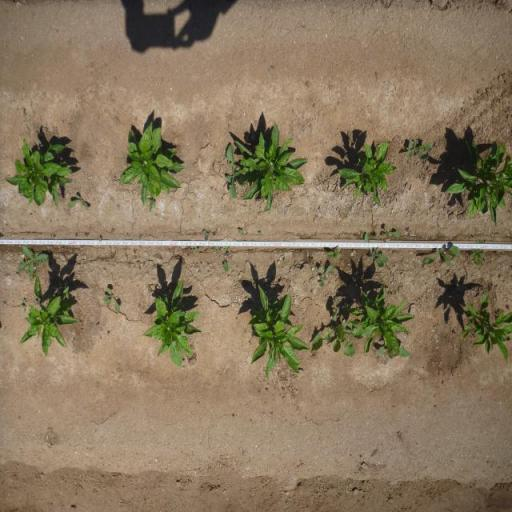plant: (442, 136, 512, 228), (243, 119, 310, 215), (248, 284, 310, 380), (143, 275, 202, 369), (4, 134, 72, 208), (119, 120, 185, 196), (24, 274, 80, 358), (336, 139, 398, 207), (457, 292, 512, 364), (364, 278, 416, 348), (145, 196, 157, 214)
weed: (311, 310, 364, 358), (222, 143, 244, 200), (16, 244, 49, 278), (364, 232, 389, 269), (421, 246, 461, 266), (406, 138, 434, 160), (212, 246, 234, 272), (470, 238, 490, 266), (103, 288, 120, 313), (68, 193, 90, 211), (318, 264, 334, 288), (384, 226, 401, 238), (326, 248, 342, 260), (20, 298, 27, 314), (374, 235, 387, 243), (493, 309, 500, 321), (202, 230, 210, 240), (341, 303, 349, 312), (405, 227, 412, 237), (238, 227, 245, 236), (250, 328, 256, 338), (334, 298, 340, 306), (110, 227, 116, 234), (309, 257, 315, 264), (146, 284, 152, 290), (84, 232, 90, 238), (495, 251, 501, 257), (388, 291, 394, 297), (193, 248, 200, 253), (171, 252, 175, 260), (74, 232, 79, 238), (451, 329, 456, 335), (98, 237, 103, 242), (94, 324, 100, 328), (50, 234, 56, 238), (133, 248, 137, 254), (134, 254, 138, 260), (138, 244, 142, 250), (506, 304, 510, 310), (200, 262, 203, 266), (259, 231, 262, 235), (107, 332, 110, 336)
